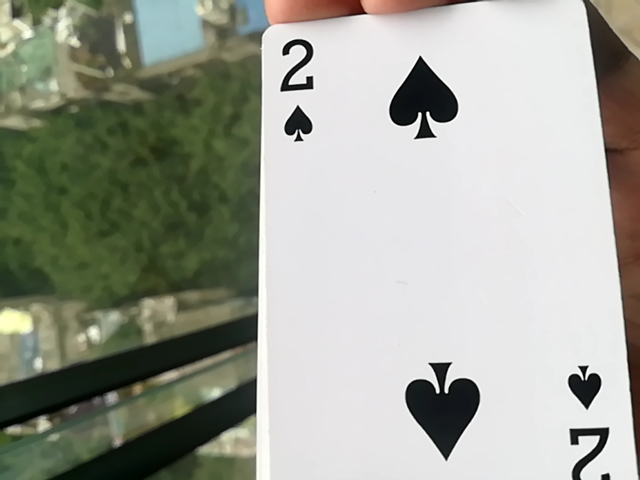ht 2: (236, 6, 632, 476)
